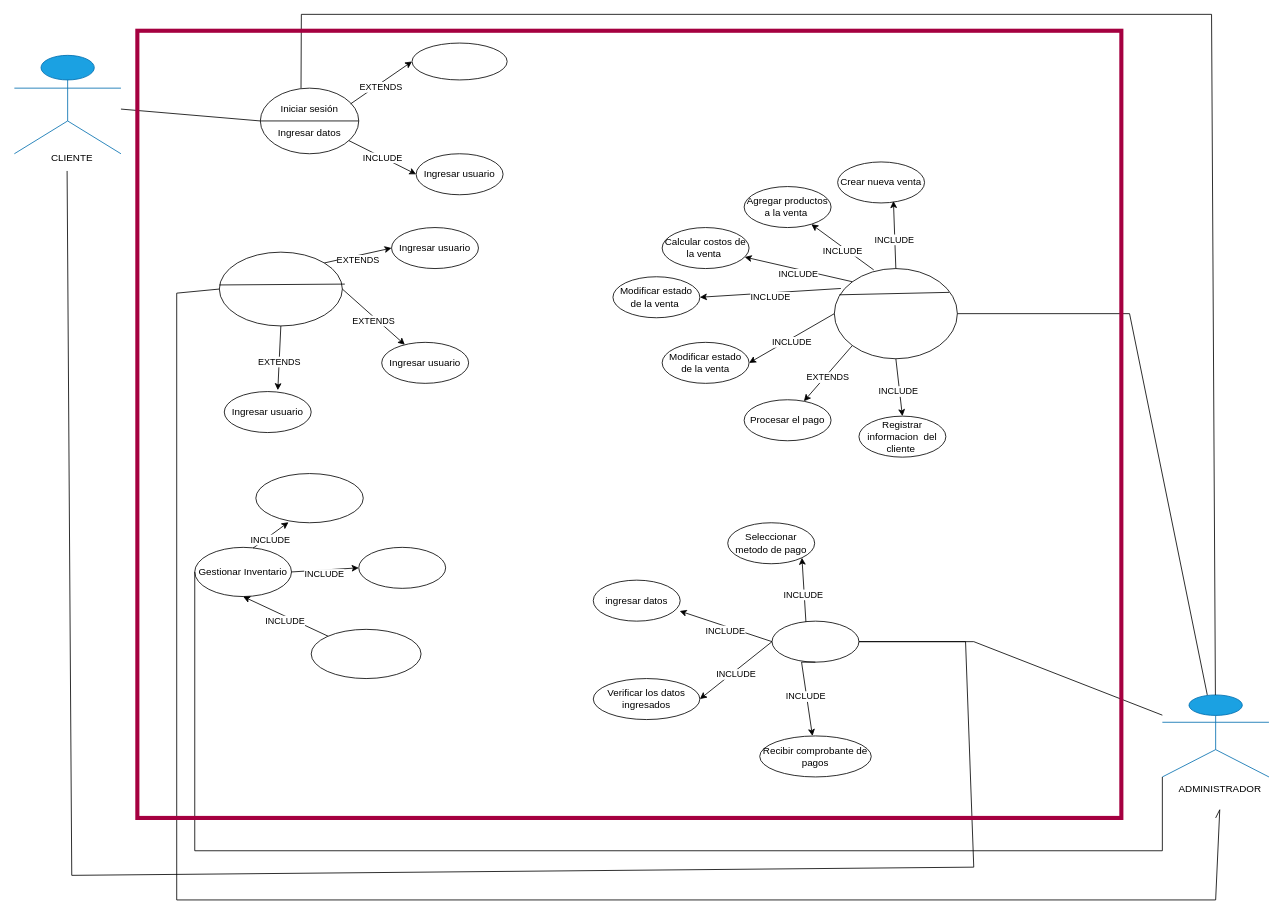
The diagram is 1283 pixels wide and 915 high, and some of its shapes have lost their labels. The centre of each missing label's shape, as x and y in pixels:
"Actualiza Producto" belongs at (402,567).
"Cambio de contraseña" belongs at (459,61).
"Gestionar productos Modificar Productos Busqueda de productos" belongs at (280,288).
"Gestionar ventas Gestionar inventario Gestionar proveedor" belongs at (895,313).
"Realizar pagos" belongs at (815,641).
"Registrar la entrada de nuevos productos" belongs at (309,498).
"Registrar la salida de productos por ventas" belongs at (365,654).
